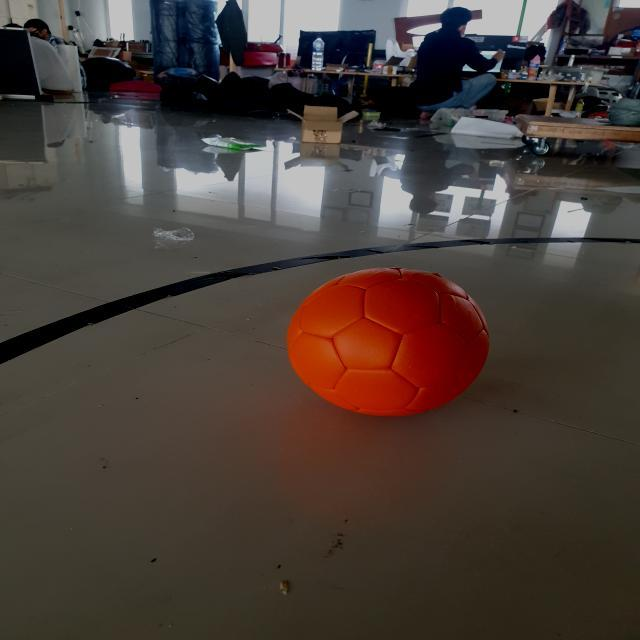bola: (270, 259, 514, 433)
